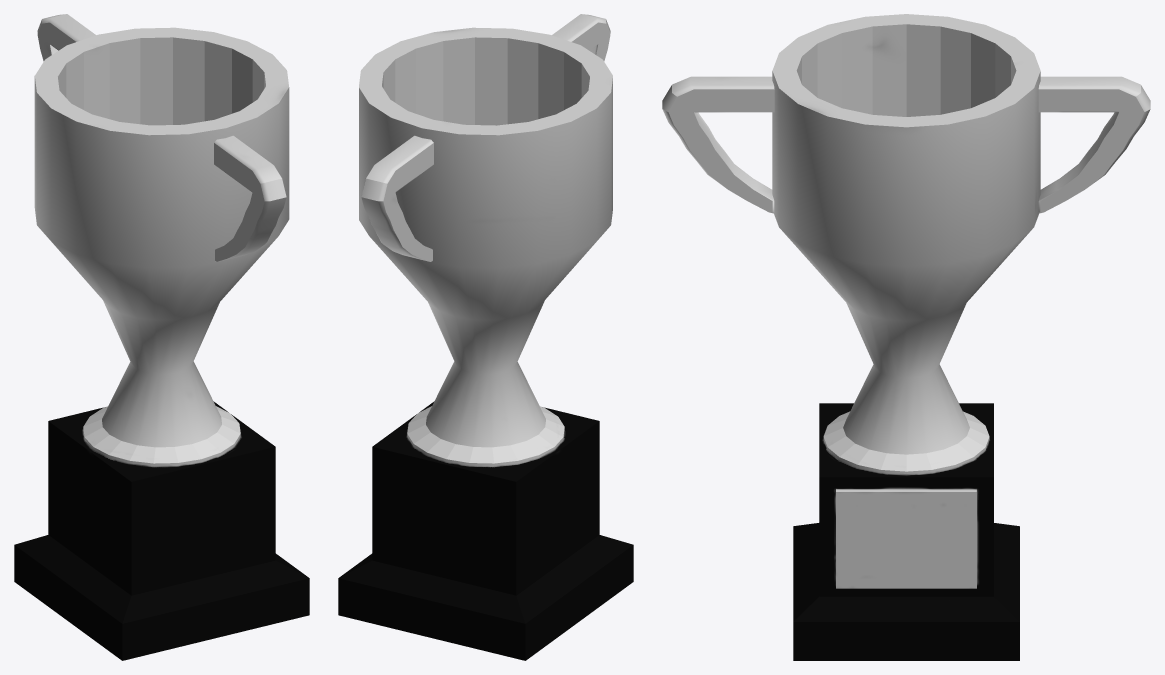
Rendered from trophy textured.fbx.
3 views of the same model, side by side, from view 1: azimuth 30°, elevation 25°; view 2: azimuth 150°, elevation 25°; view 3: azimuth 270°, elevation 25° (orthographic). The views are drawn at different scales.
Visible parts, largest first — view 1: pCylinder2; view 2: pCylinder2; view 3: pCylinder2.
Part boxes in pixels (x1,y1,x2,y2): pCylinder2: (14,14,309,660); pCylinder2: (338,14,633,660); pCylinder2: (662,14,1150,660).
Bounding box in the file's own units: 4.23 × 9.43 × 7.69.
1 material, 1 textured.
